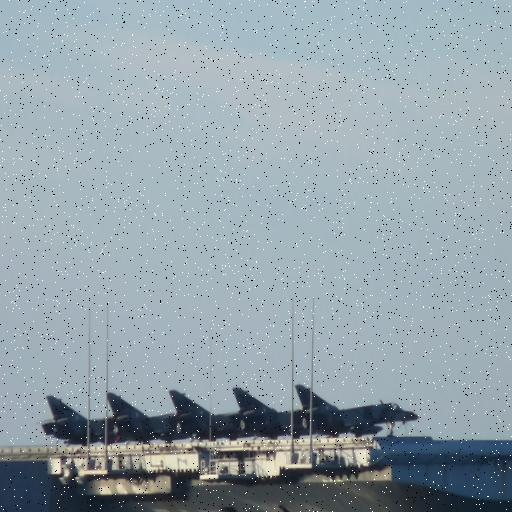Portanaves: (1, 297, 512, 512)
